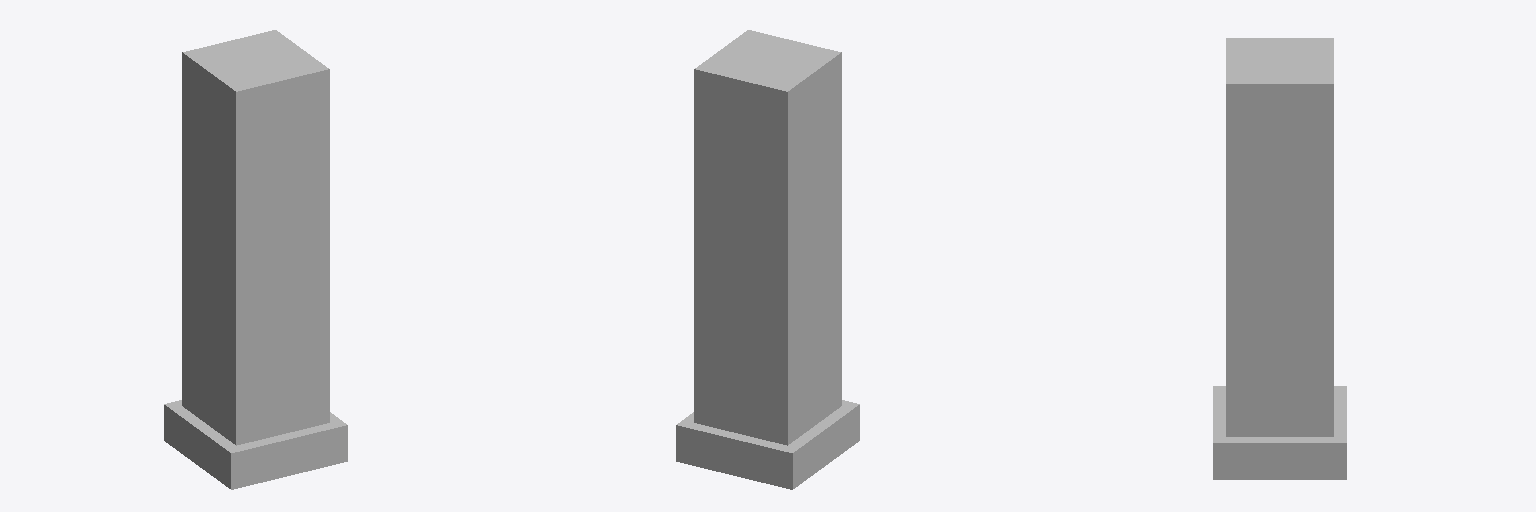
The model's file is pillar2Large.obj.
3 views of the same model, side by side, from view 1: azimuth 30°, elevation 25°; view 2: azimuth 150°, elevation 25°; view 3: azimuth 270°, elevation 25° (orthographic).
Parts seen in each view (by area): view 1: pillar2Large; view 2: pillar2Large; view 3: pillar2Large.
Boxes of the visible parts, x1=… form: pillar2Large: x1=164, y1=30, x2=347, y2=489; pillar2Large: x1=676, y1=30, x2=859, y2=489; pillar2Large: x1=1213, y1=38, x2=1346, y2=479.
Size of the model in its own units: 20 by 64 by 20.